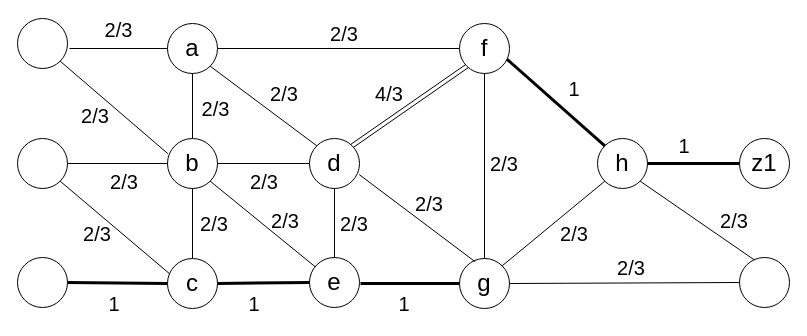
The diagram is 807 pixels wide and 336 high, and some of its shapes have lost their labels. The shapes that lost their labels are listed below. From the top down, each one's centre as x and y in pixels, then its label:
At point (42, 43): "w1".
At point (42, 163): "w2".
At point (42, 282): "w3".
At point (764, 282): "z2".
